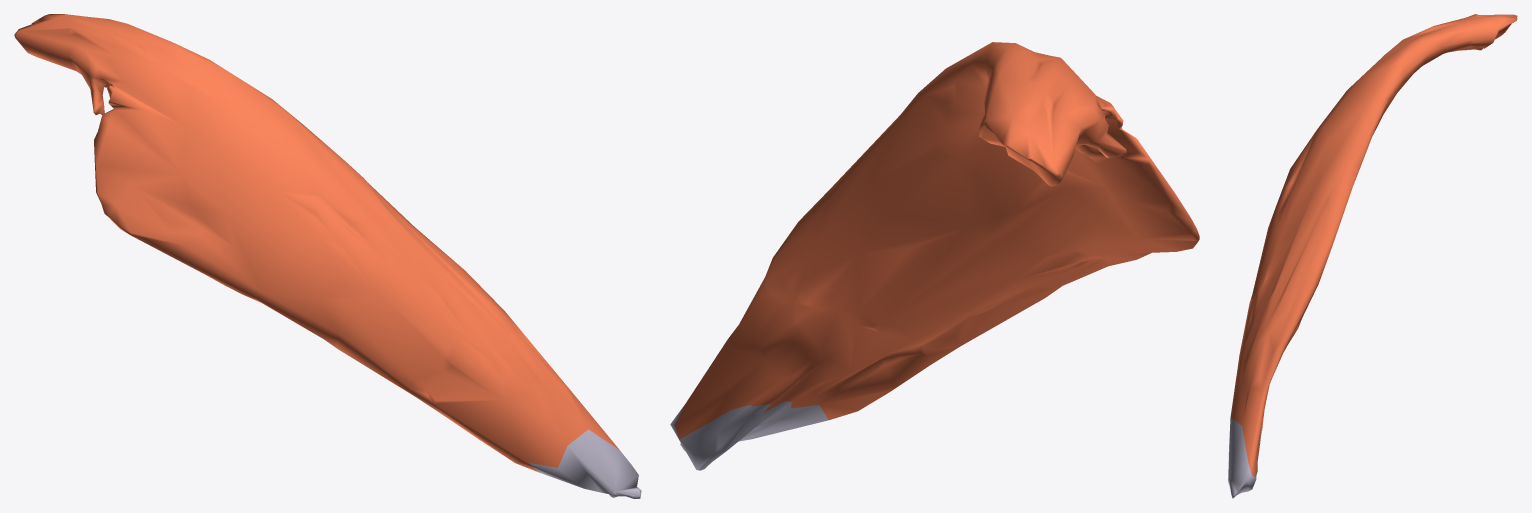
Rendered from Abductor_pollicis_brevis.l_Generated_Mesh_From_X3D.1016.glb.
3 views of the same model, side by side, from view 1: azimuth 30°, elevation 25°; view 2: azimuth 150°, elevation 25°; view 3: azimuth 270°, elevation 25° (orthographic). The views are drawn at different scales.
Visible parts, largest first — view 1: Abductor_pollicis_brevis.l_Generated_Mesh_From_X3D.1016; view 2: Abductor_pollicis_brevis.l_Generated_Mesh_From_X3D.1016; view 3: Abductor_pollicis_brevis.l_Generated_Mesh_From_X3D.1016.
Boxes of the visible parts, x1,y1,x2,y2 form: Abductor_pollicis_brevis.l_Generated_Mesh_From_X3D.1016: (14, 14, 641, 498); Abductor_pollicis_brevis.l_Generated_Mesh_From_X3D.1016: (670, 42, 1199, 470); Abductor_pollicis_brevis.l_Generated_Mesh_From_X3D.1016: (1228, 14, 1517, 498).
Bounding box in the file's own units: 0.0407 × 0.0396 × 0.0307.
